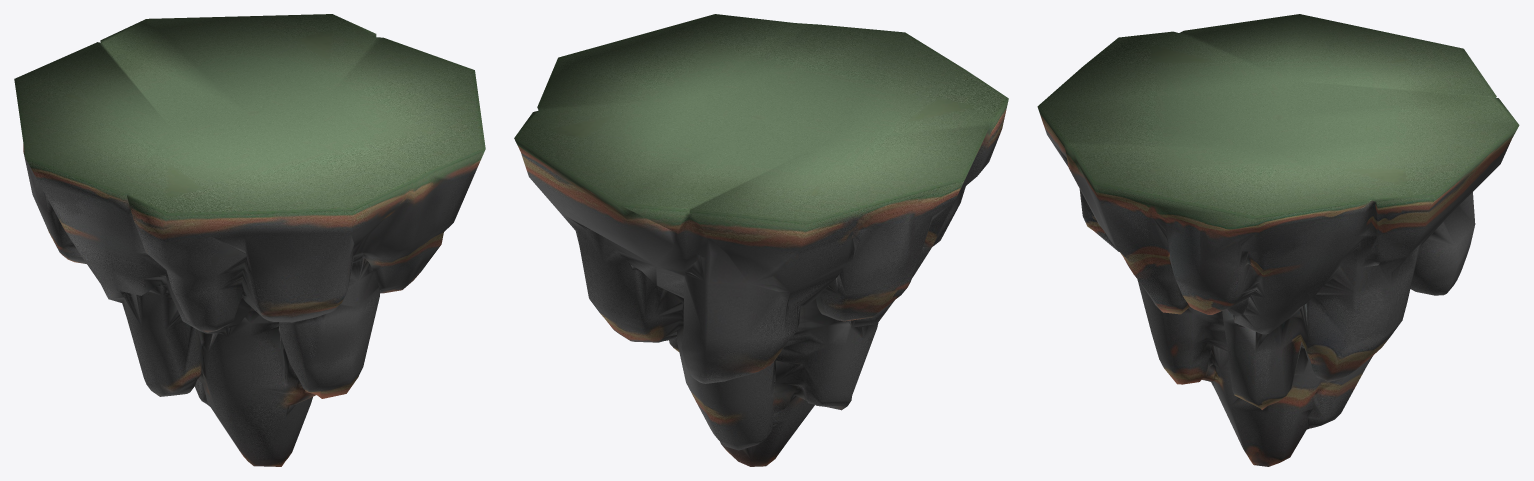
File: tripo_convert_4e330528-a879-45a4-99b1-ba69d4b4f69b.fbx
3 views of the same model, side by side, from view 1: azimuth 30°, elevation 25°; view 2: azimuth 150°, elevation 25°; view 3: azimuth 270°, elevation 25° (orthographic). The views are drawn at different scales.
Parts seen in each view (by area): view 1: tripo_node_4e330528; view 2: tripo_node_4e330528; view 3: tripo_node_4e330528.
Part boxes in pixels (x1=…): tripo_node_4e330528: x1=14, y1=14, x2=485, y2=466; tripo_node_4e330528: x1=514, y1=14, x2=1008, y2=466; tripo_node_4e330528: x1=1037, y1=14, x2=1519, y2=466.
Bounding box in the file's own units: 0.998 × 0.7793 × 0.998.
1 material, 1 textured.
